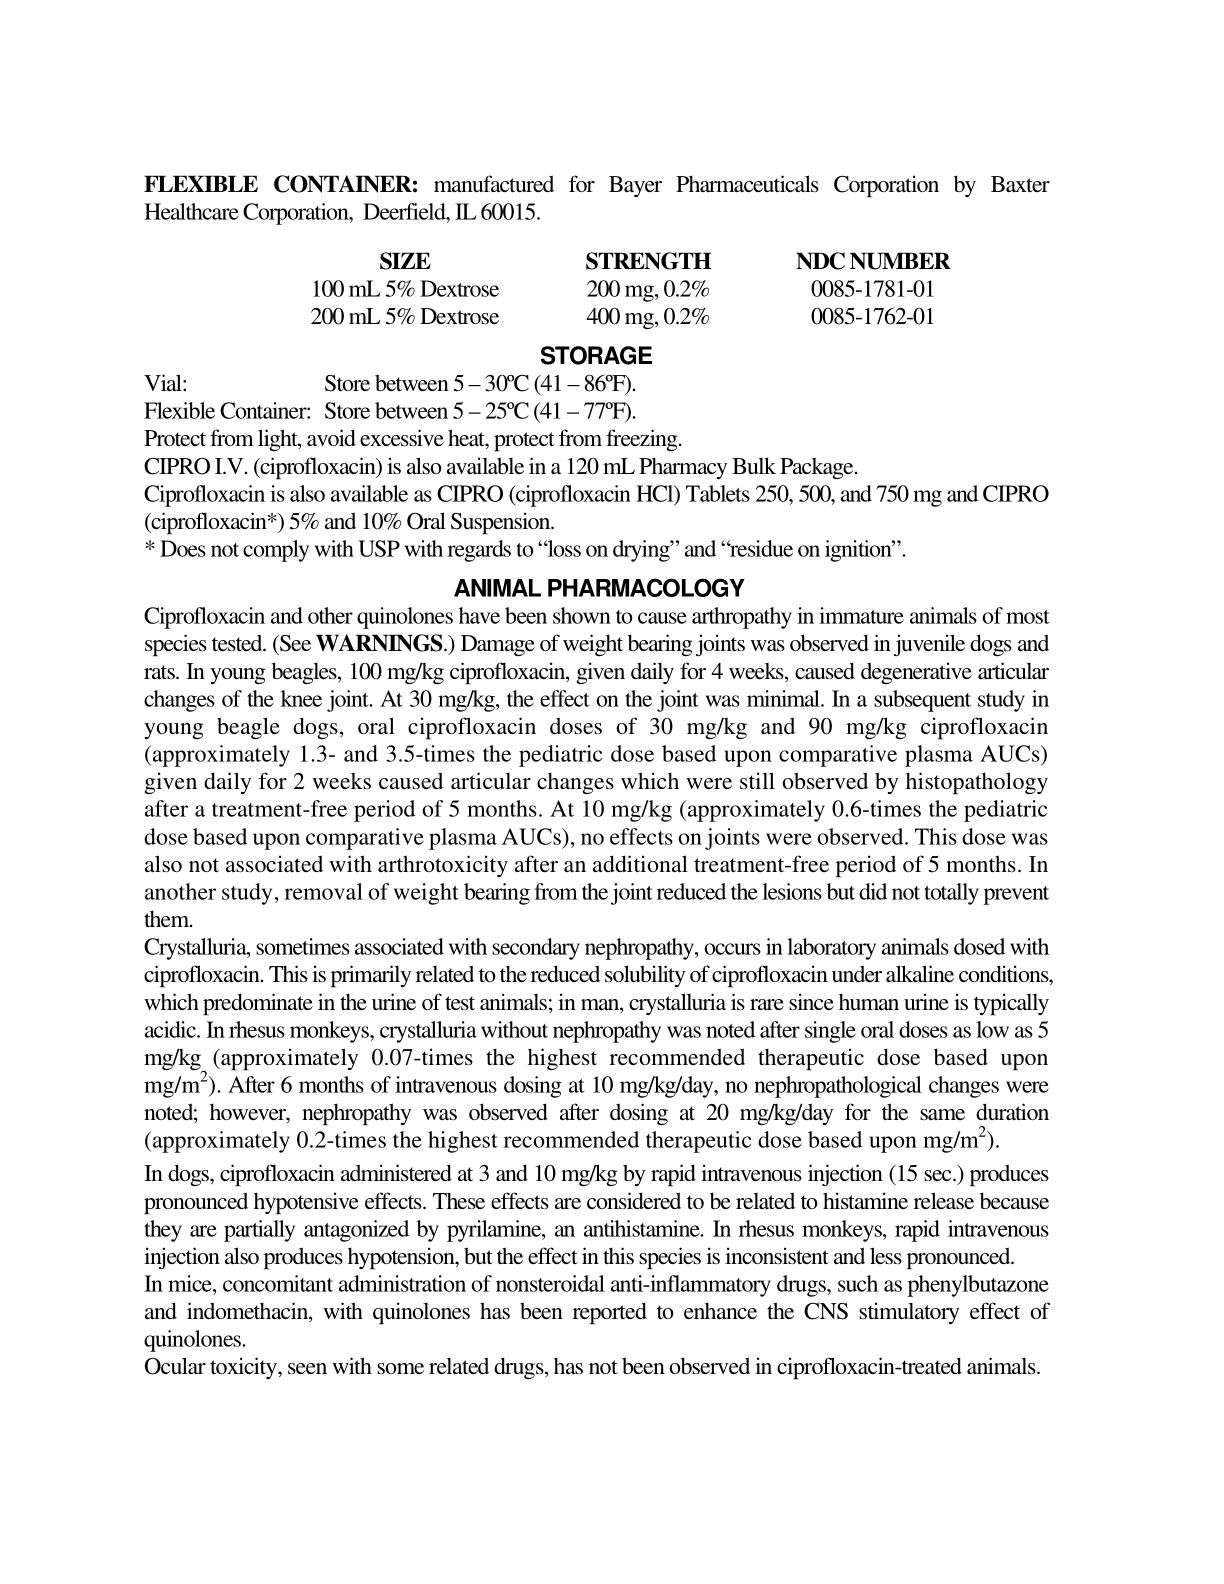nolines: (310, 247, 954, 327)
